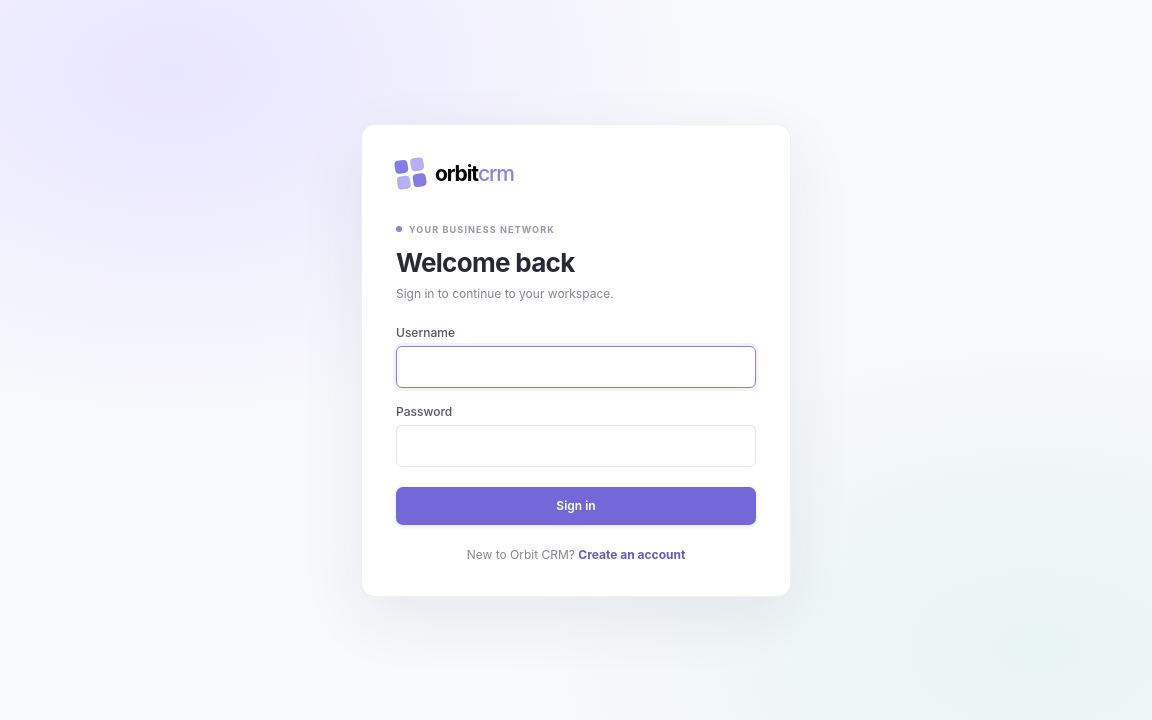
Scenario: registers an account and returns to the login form
This screenshot has width=1152, height=720.
Click the button "Create an account": click(632, 554) [578,546,685,562]
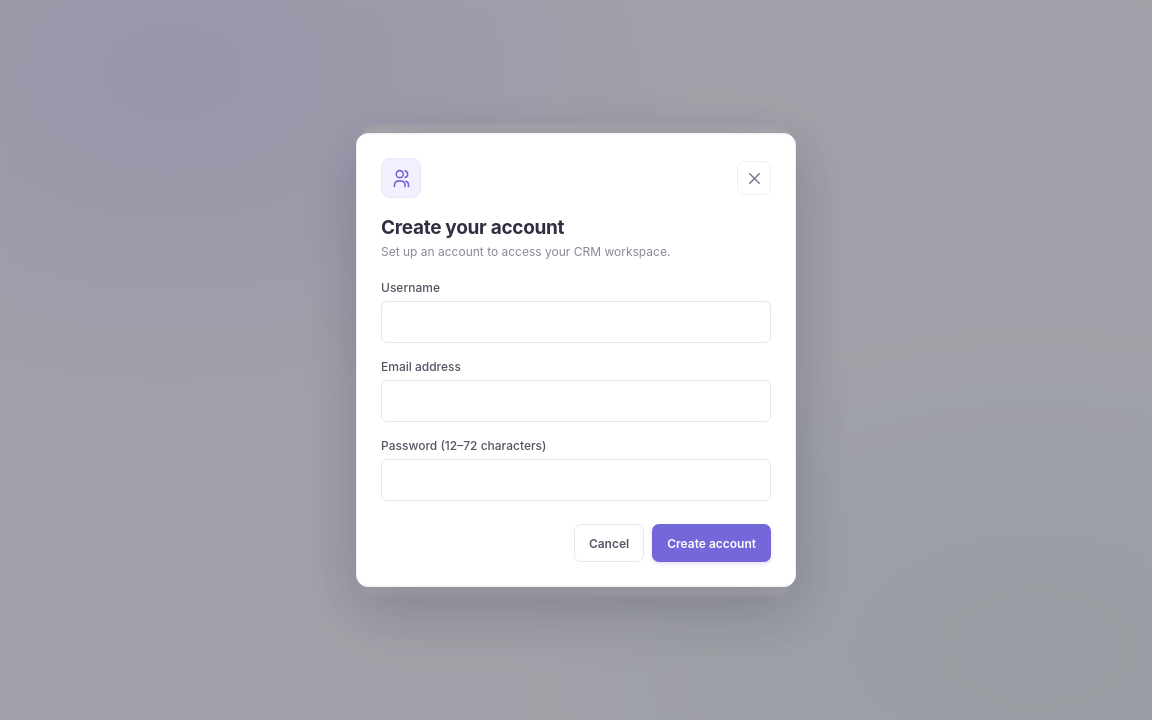
In the field labelled "Username": (576, 322) [381,301,771,343], type "taylor"
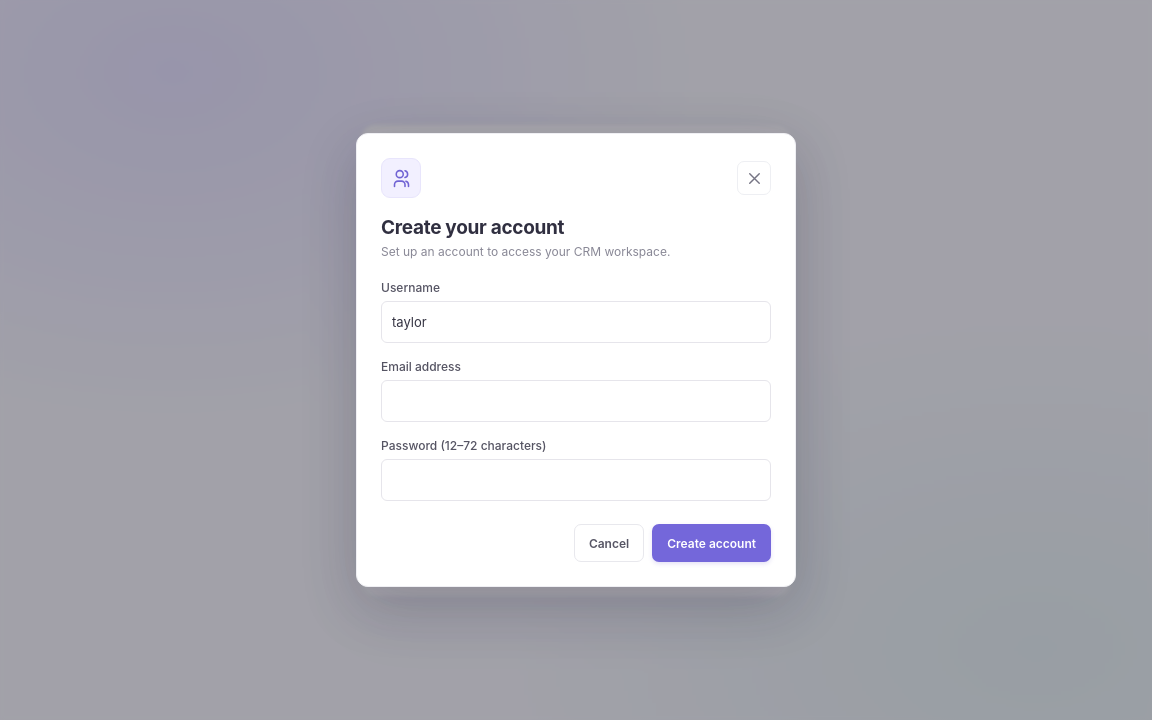
In the field labelled "Email address": (576, 401) [381,380,771,422], type "taylor@example.com"
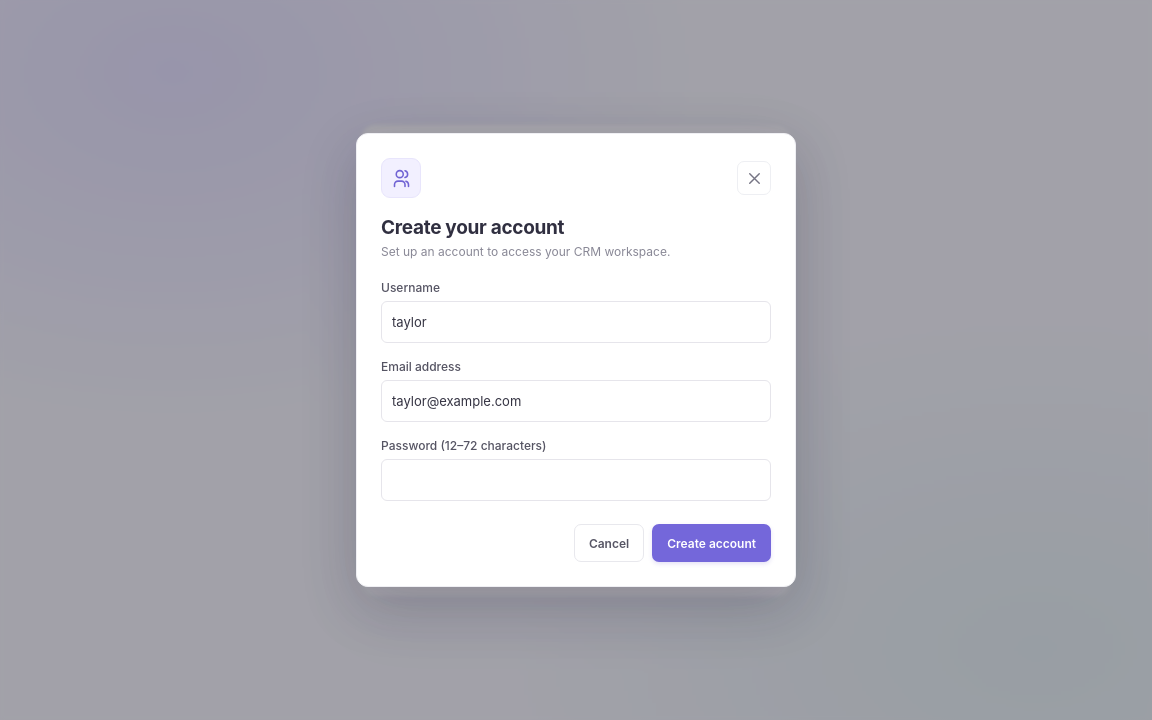
In the password field labelled "Password (12–72 characters)": (576, 480) [381,459,771,501], type "a-long-unique-password"
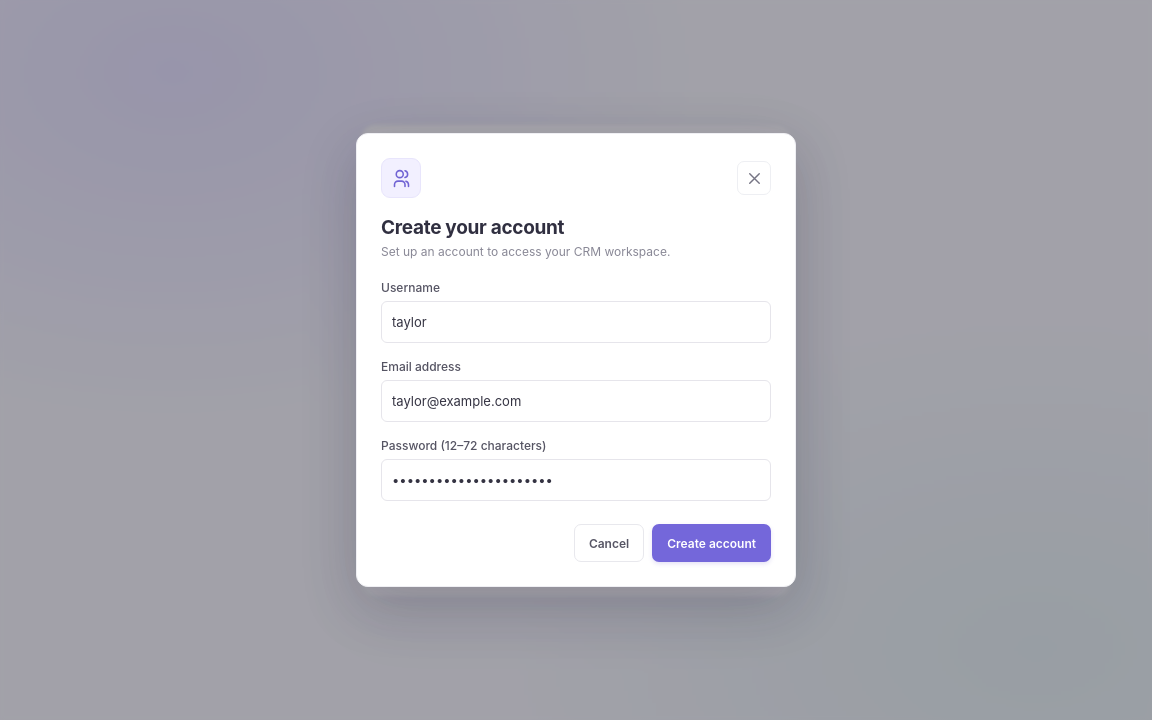
Click the button "Create account": click(712, 543) [652,524,771,562]
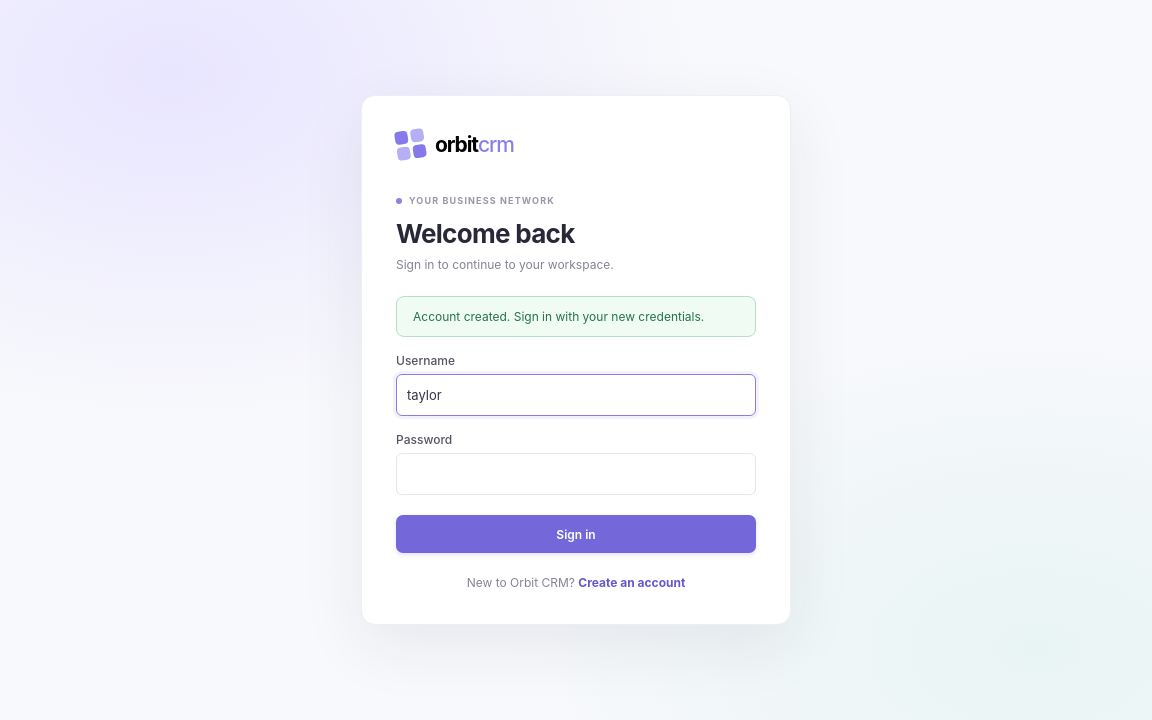
Expected: the message shows "Account created", [413,309,704,324]
